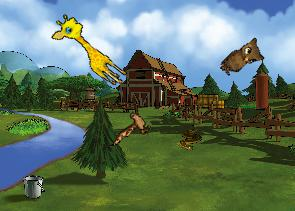eagle: (110, 100, 155, 153)
giraffe: (46, 10, 136, 89)
owl: (217, 33, 270, 86)
